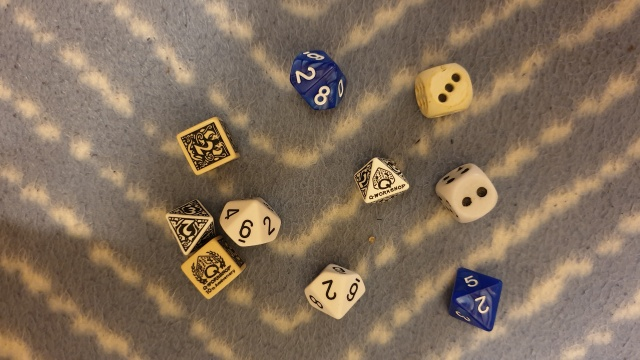d10-2: (436, 257, 520, 341), (304, 254, 372, 322)
d10-6: (214, 188, 283, 257)
d10-8: (284, 44, 357, 117)
d6-2: (434, 157, 504, 227)
d6-3: (413, 60, 476, 123)
d6p-2: (175, 112, 244, 181)
d6p-6: (176, 236, 250, 310)
d8p-2: (159, 197, 218, 256)
d8p-8: (348, 146, 413, 211)
